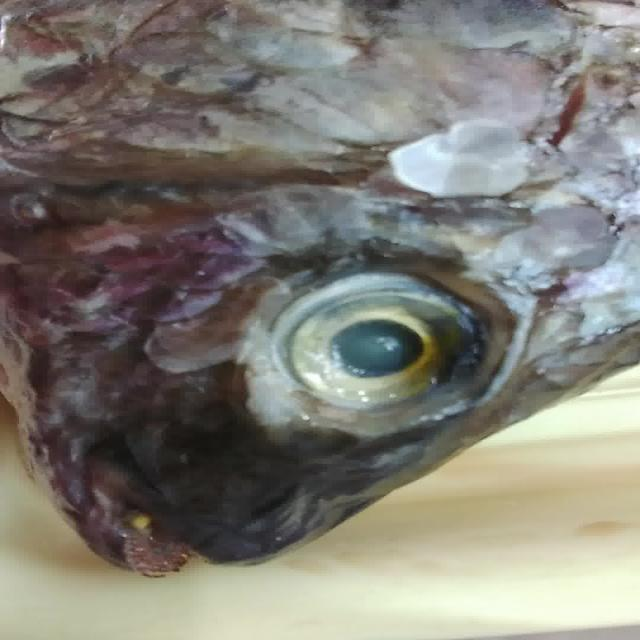Non-Fresh: (245, 248, 512, 443)
